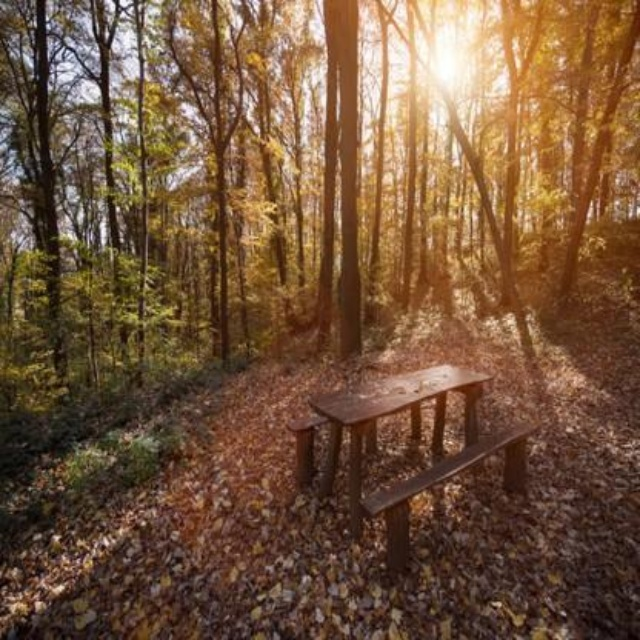obstacle: (274, 343, 552, 575)
